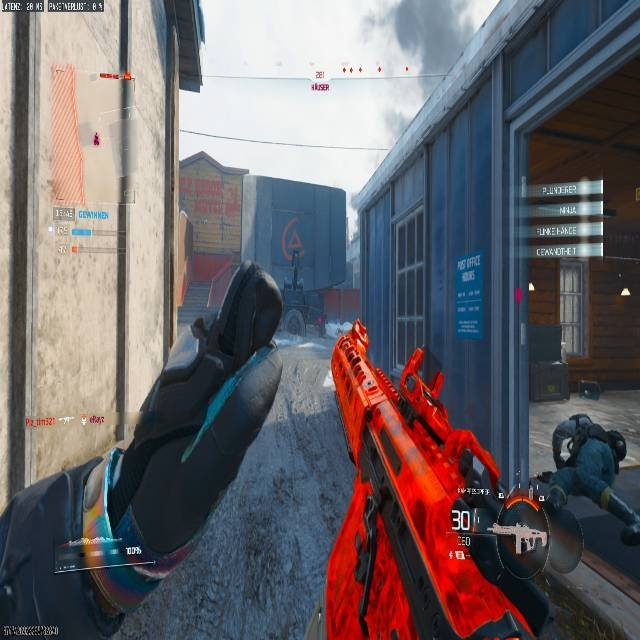head: (550, 413, 627, 486), (551, 414, 589, 466), (605, 429, 626, 462)
player: (478, 411, 639, 638)
